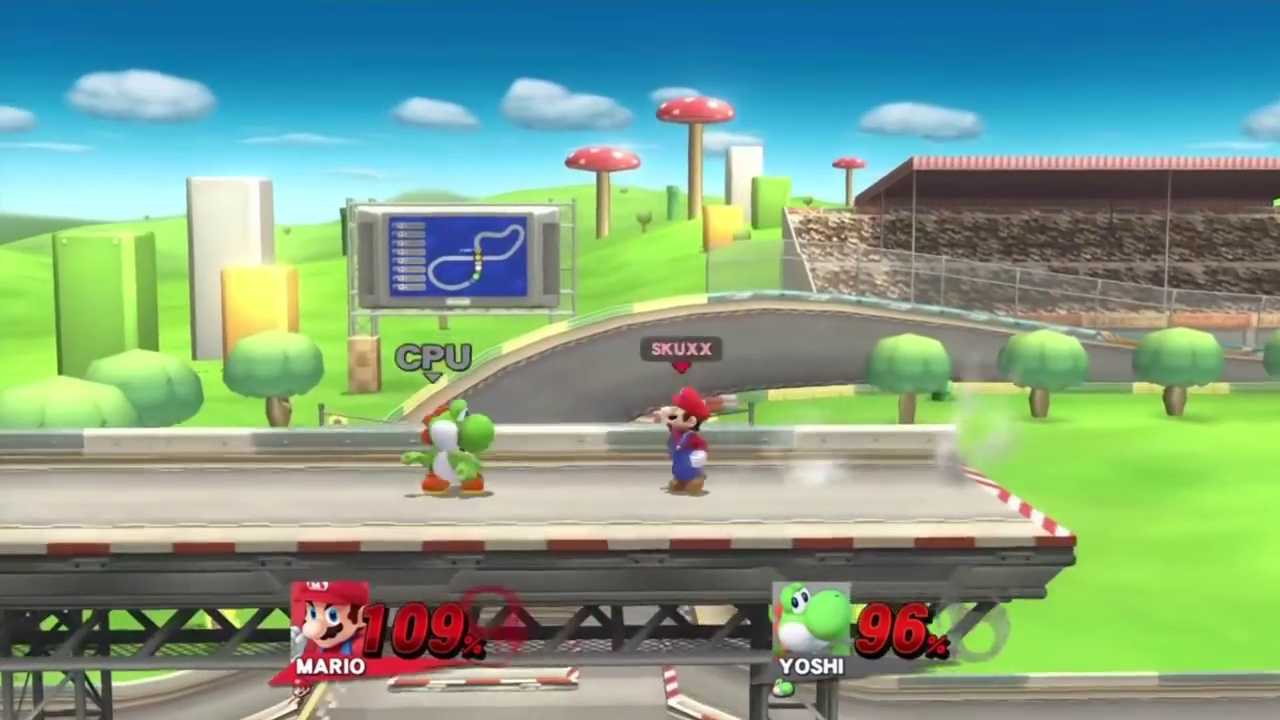Mario: (664, 387, 713, 497)
